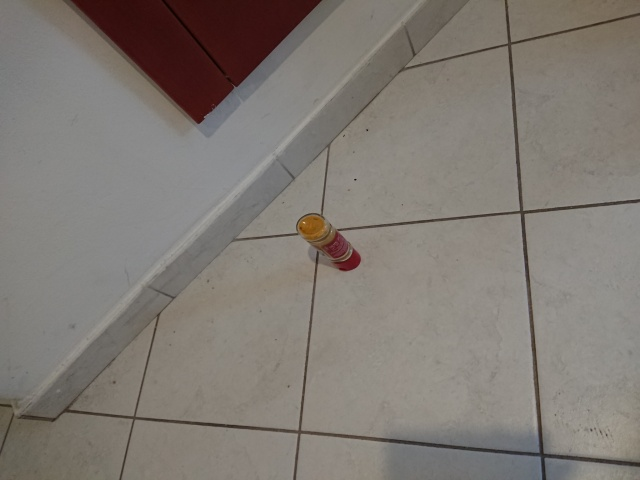Kotanyi Curry Spices Mix 70g: (294, 211, 363, 273)
